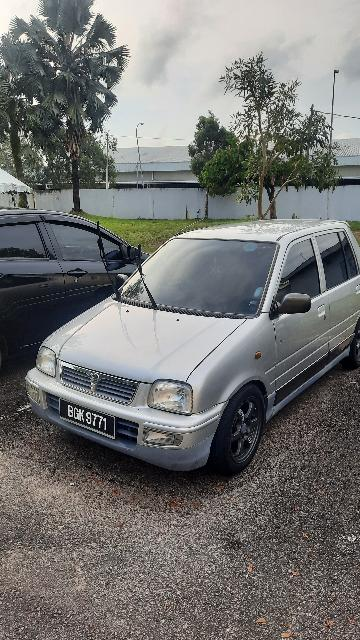License_Plate: (59, 397, 121, 446)
car: (25, 215, 360, 482), (2, 205, 163, 371)
